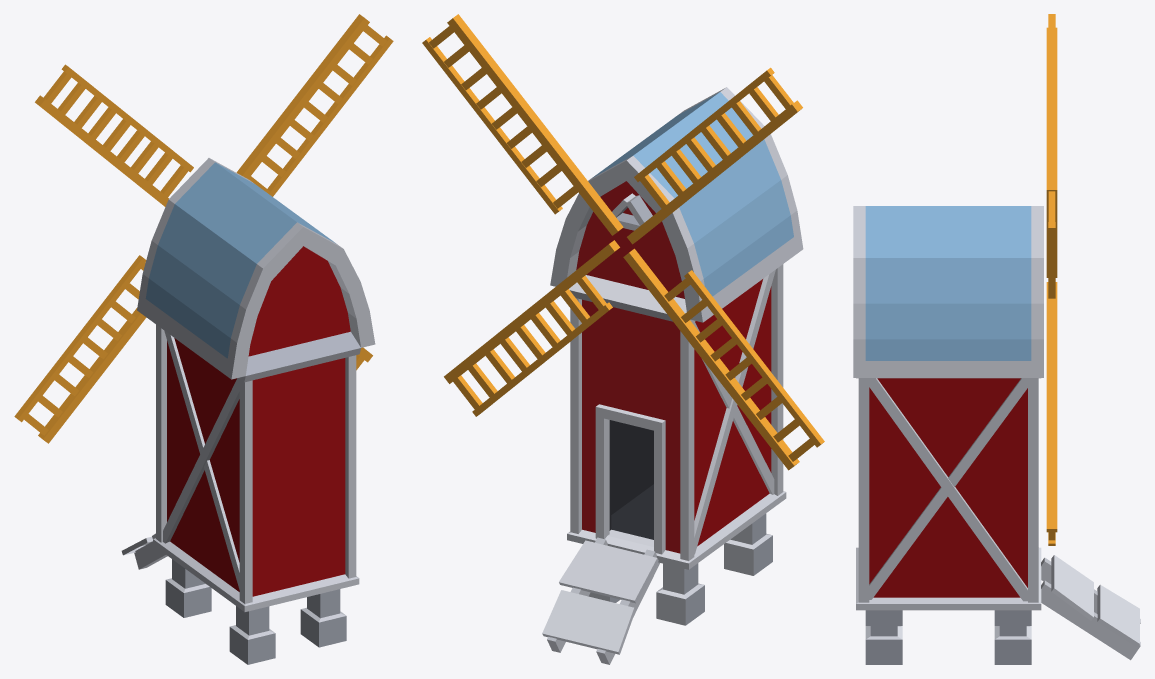
Rendered from FarmMill1 #24678.fbx.
The picture shows the model from 3 angles, left to right: view 1: azimuth 30°, elevation 25°; view 2: azimuth 150°, elevation 25°; view 3: azimuth 270°, elevation 25°; orthographic projection. The views are drawn at different scales.
Parts seen in each view (by area): view 1: FarmMill1, FarmMillWings; view 2: FarmMill1, FarmMillWings; view 3: FarmMill1, FarmMillWings.
Part boxes in pixels (box(x1,y1,x2,y2)): FarmMill1: box(121, 158, 375, 664); FarmMillWings: box(14, 14, 393, 443); FarmMill1: box(542, 87, 803, 664); FarmMillWings: box(422, 14, 824, 470); FarmMill1: box(853, 206, 1140, 664); FarmMillWings: box(1046, 14, 1057, 545).
Bounding box in the file's own units: 3.7 × 5.27 × 2.43.
Materials: 1 (1 with a texture image).
